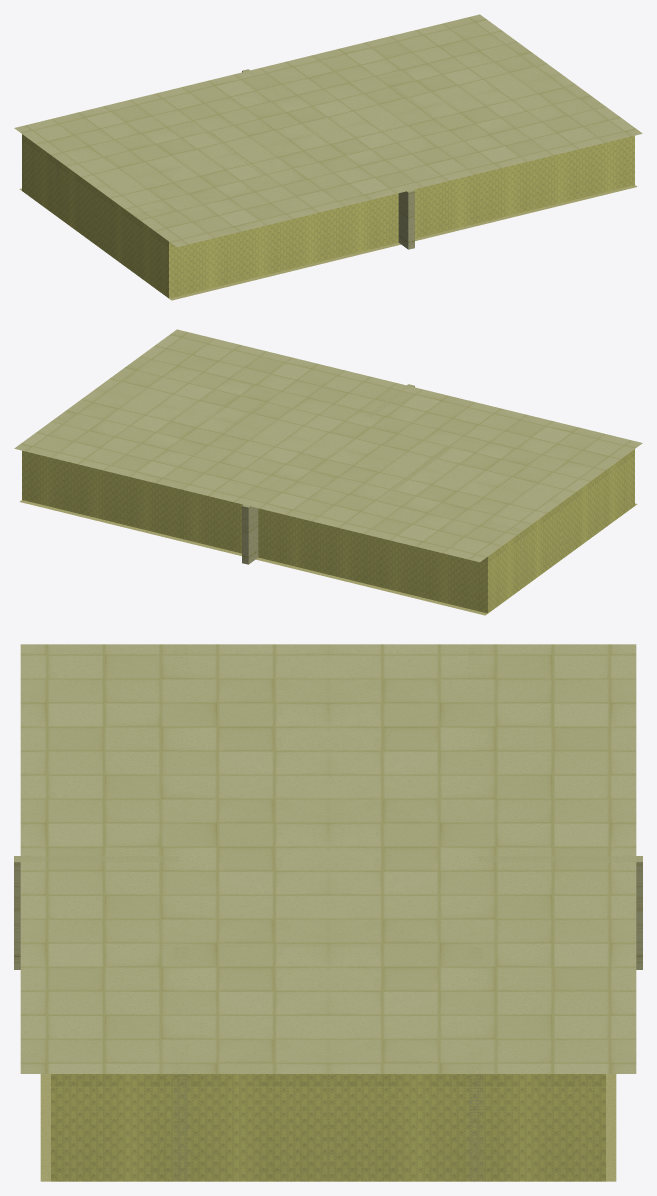
Rendered from SM_Backrooms_02.fbx.
The picture shows the model from 3 angles, top to bottom: view 1: azimuth 30°, elevation 25°; view 2: azimuth 150°, elevation 25°; view 3: azimuth 270°, elevation 25°; orthographic projection. The views are drawn at different scales.
Visible parts, largest first — view 1: SM_Backrooms_02; view 2: SM_Backrooms_02; view 3: SM_Backrooms_02.
Boxes of the visible parts, bbox=[...] form: SM_Backrooms_02: bbox=[14, 14, 642, 300]; SM_Backrooms_02: bbox=[14, 329, 642, 615]; SM_Backrooms_02: bbox=[14, 644, 642, 1181].
Size of the model in its own units: 4681 by 548 by 2897.
